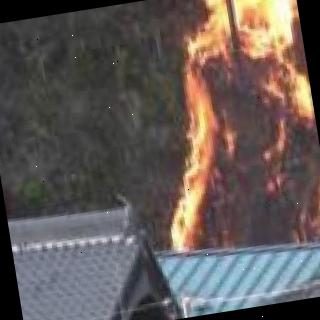fire: (133, 0, 320, 267)
